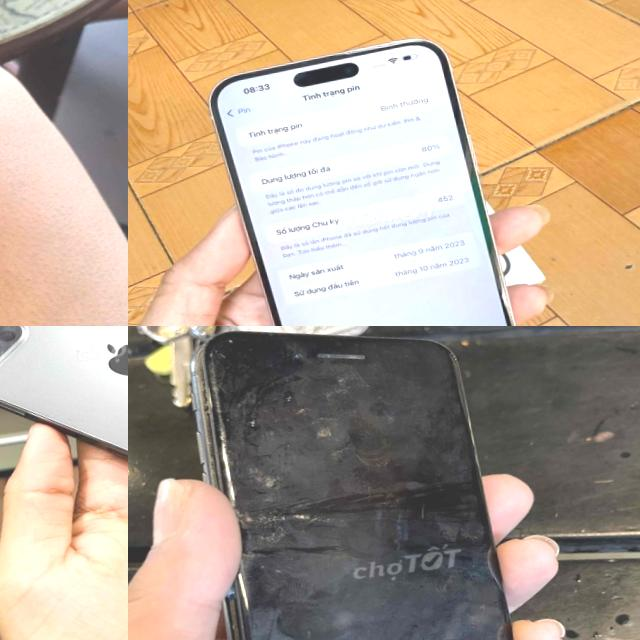gen_12_13: (0, 326, 128, 563)
gen_15: (187, 26, 539, 326)
gen_x_xs: (175, 326, 544, 640)
